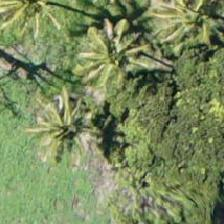coconut_tree: (58, 9, 148, 99), (13, 80, 103, 170), (132, 0, 222, 59), (0, 0, 71, 49)
